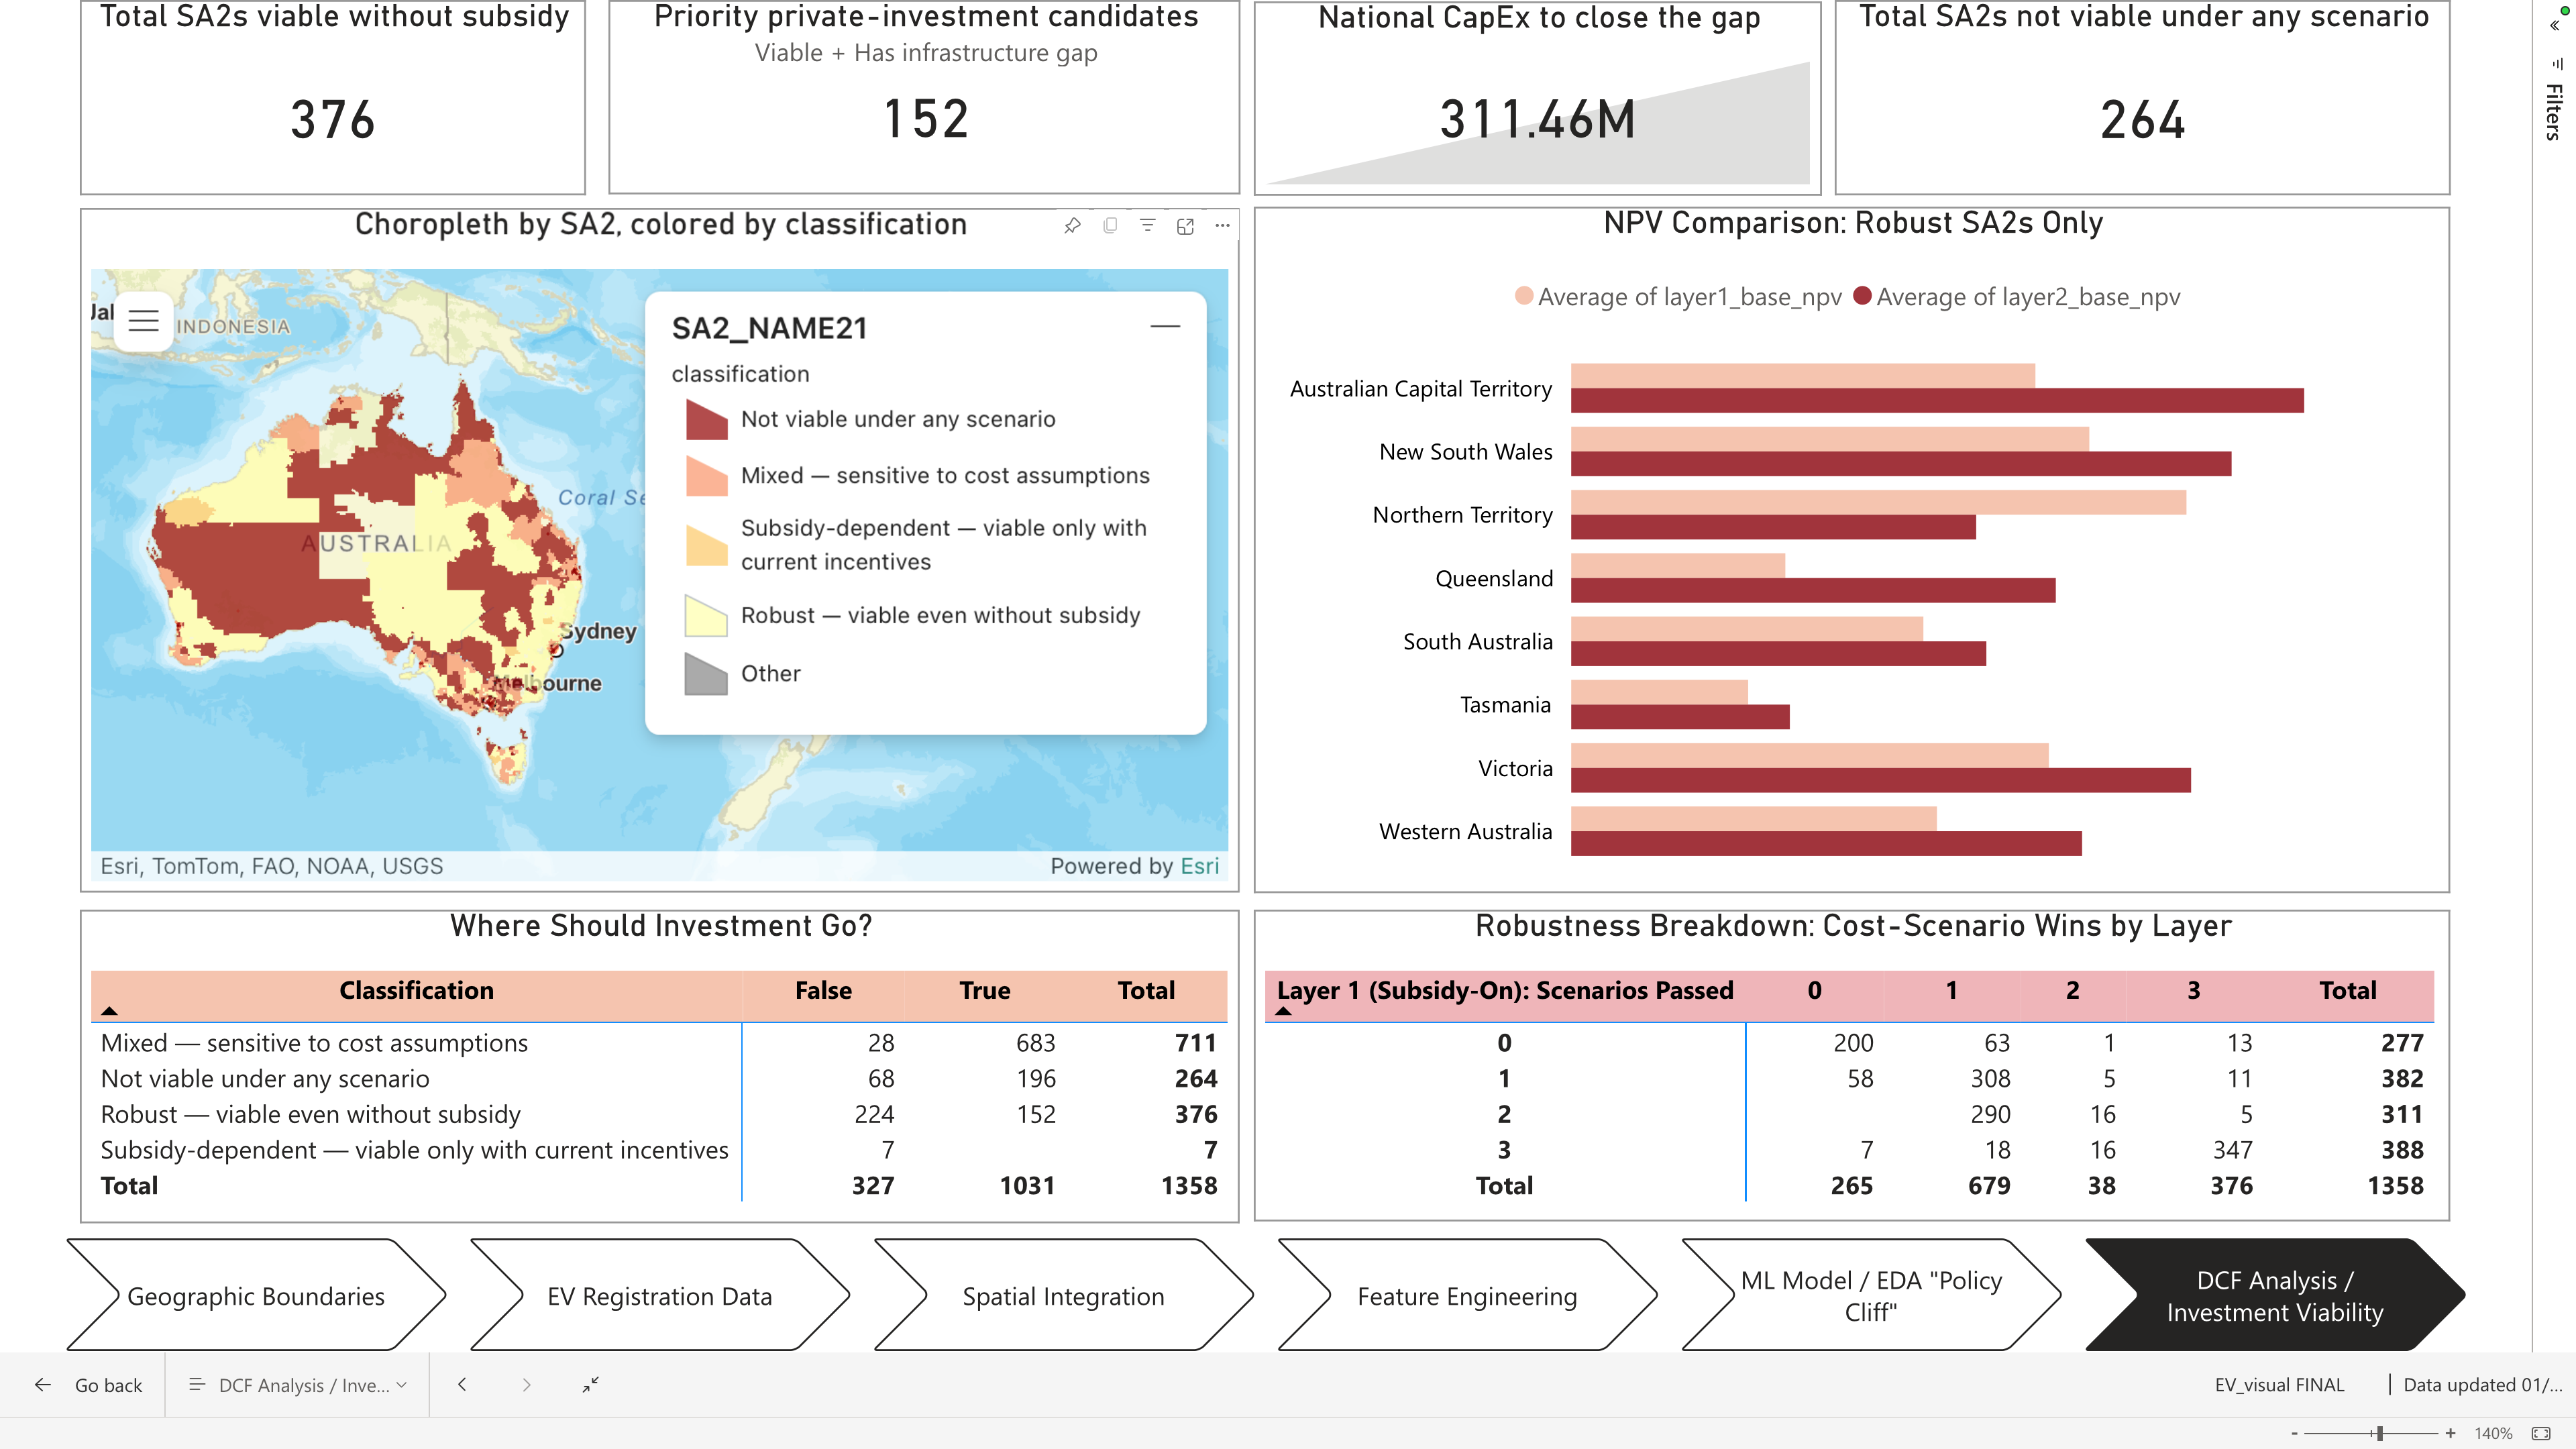

This screenshot's page, from the dashboard's own definition file:
{"tool":"powerbi","page":{"name":"DCF Analysis / Investment Viability","canvas":[1280,720],"ordinal":5},"visuals":[{"type":"kpi","title":"Total SA2s viable without subsidy","fields":{"Indicator":["CountNonNull(dcf_results_enriched.SA2_CODE21)"],"TrendLine":["dcf_results_enriched.classification"]},"box":[8.9,0,269.5,104.2],"z":0},{"type":"kpi","title":"Priority private-investment candidates","fields":{"Indicator":["CountNonNull(dcf_results_enriched.SA2_CODE21)"],"TrendLine":["dcf_results_enriched.classification"]},"box":[290.1,0,336.7,103.7],"z":1000},{"type":"kpi","title":"National CapEx to close the gap","fields":{"Indicator":["Sum(dcf_results_enriched.capex_gap_base)"],"TrendLine":["dcf_results_enriched.has_gap"]},"box":[633.8,0.9,302.4,103.7],"z":2000},{"type":"kpi","title":"Total SA2s not viable under any scenario","fields":{"Indicator":["CountNonNull(dcf_results_enriched.SA2_CODE21)"],"TrendLine":["dcf_results_enriched.classification"]},"box":[943.2,0,327.9,104.2],"z":3000},{"type":"esriVisual","title":"Choropleth by SA2, colored by classification","fields":{"Color":["dcf_results_enriched.classification"],"JoinField":["dcf_results_enriched.SA2_CODE21"],"Location":["dcf_results_enriched.SA2_NAME21"]},"box":[8.8,110.7,617.6,364.6],"z":4000},{"type":"pivotTable","title":"Where Should Investment Go?","fields":{"Columns":["dcf_results_enriched.has_gap"],"Rows":["dcf_results_enriched.classification"],"Values":["CountNonNull(dcf_results_enriched.SA2_CODE21)"]},"box":[8.8,484.1,617.6,166.9],"z":5000},{"type":"clusteredBarChart","title":"NPV Comparison: Robust SA2s Only","fields":{"Category":["dcf_results_enriched.STE_NAME21"],"Y":["Avg(dcf_results_enriched.layer1_base_npv)","Avg(dcf_results_enriched.layer2_base_npv)"]},"box":[633.4,109.8,636.9,365.5],"z":6000},{"type":"pageNavigator","box":[0,659.4,1280,60.6],"z":7000},{"type":"pivotTable","title":"Robustness Breakdown: Cost-Scenario Wins by Layer","fields":{"Columns":["dcf_results_enriched.n_positive_layer2"],"Rows":["dcf_results_enriched.n_positive_layer1"],"Values":["CountNonNull(dcf_results_enriched.SA2_CODE21)"]},"box":[633.4,484.1,636.9,166],"z":8000}]}

Visuals, with their boxes on the page's 1280x720 design canvas (x1, y1, x2, y2). These are canvas units, not pixel positions in the 2576x1449 screenshot, which may show the page scaled, cropped or inside an application window:
"Total SA2s viable without subsidy" kpi: bbox=[9, 0, 278, 104]
"Priority private-investment candidates" kpi: bbox=[290, 0, 627, 104]
"National CapEx to close the gap" kpi: bbox=[634, 1, 936, 105]
"Total SA2s not viable under any scenario" kpi: bbox=[943, 0, 1271, 104]
"Choropleth by SA2, colored by classification" esriVisual: bbox=[9, 111, 626, 475]
"Where Should Investment Go?" pivotTable: bbox=[9, 484, 626, 651]
"NPV Comparison: Robust SA2s Only" clusteredBarChart: bbox=[633, 110, 1270, 475]
pageNavigator: bbox=[0, 659, 1280, 720]
"Robustness Breakdown: Cost-Scenario Wins by Layer" pivotTable: bbox=[633, 484, 1270, 650]
